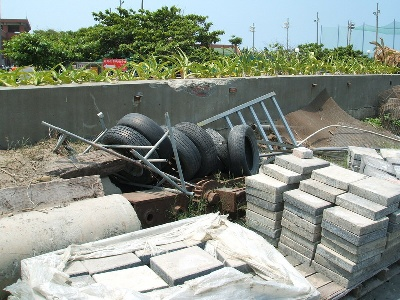tire: (103, 125, 161, 182), (119, 113, 173, 165), (174, 121, 218, 176), (163, 126, 201, 177), (226, 124, 260, 176)
